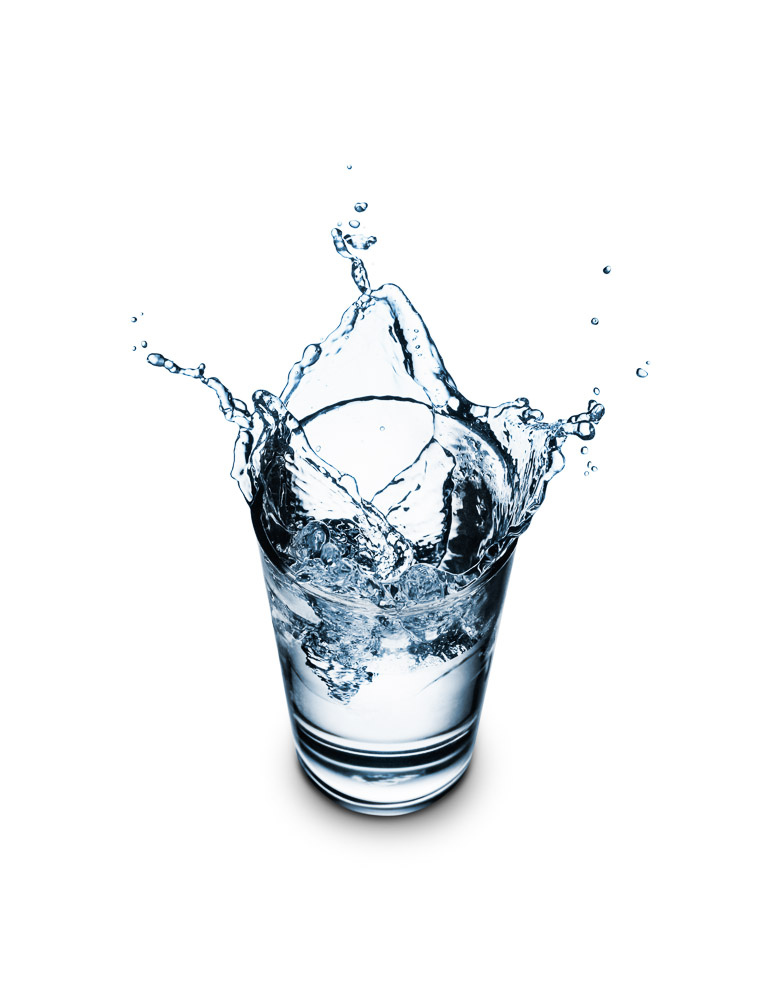glass of water: (243, 391, 509, 827)
